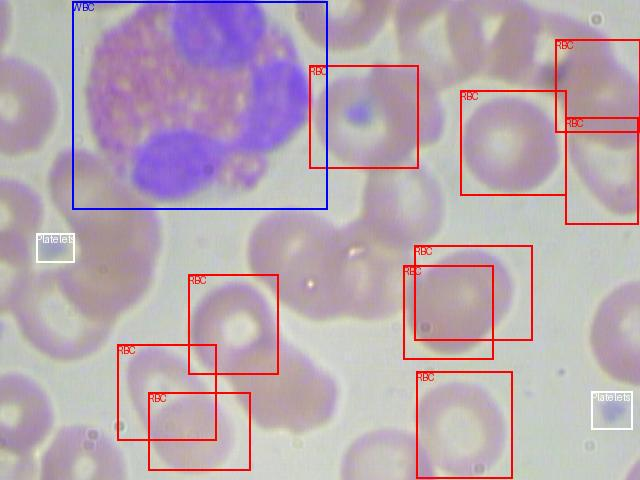Platelets: (591, 391, 632, 429), (36, 233, 74, 262)
RBC: (309, 65, 418, 168), (414, 245, 532, 340), (460, 90, 566, 195), (416, 371, 512, 478), (117, 344, 216, 440), (188, 274, 278, 374), (403, 265, 493, 359), (148, 392, 250, 470), (555, 39, 640, 132), (565, 117, 638, 224)
WBC: (72, 1, 327, 209)
